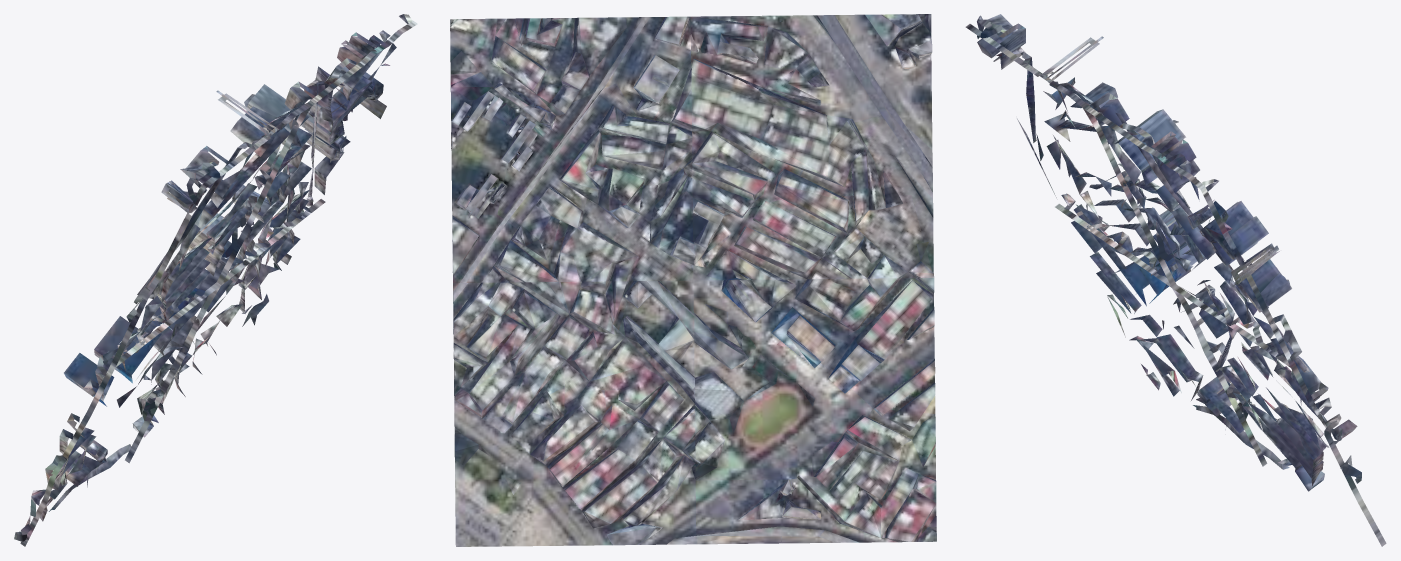
3 views of the same model, side by side, from view 1: azimuth 30°, elevation 25°; view 2: azimuth 150°, elevation 25°; view 3: azimuth 270°, elevation 25° (orthographic). The views are drawn at different scales.
Size of the model in its own units: 616 by 591 by 519.
Materials: 1 (1 with a texture image).
